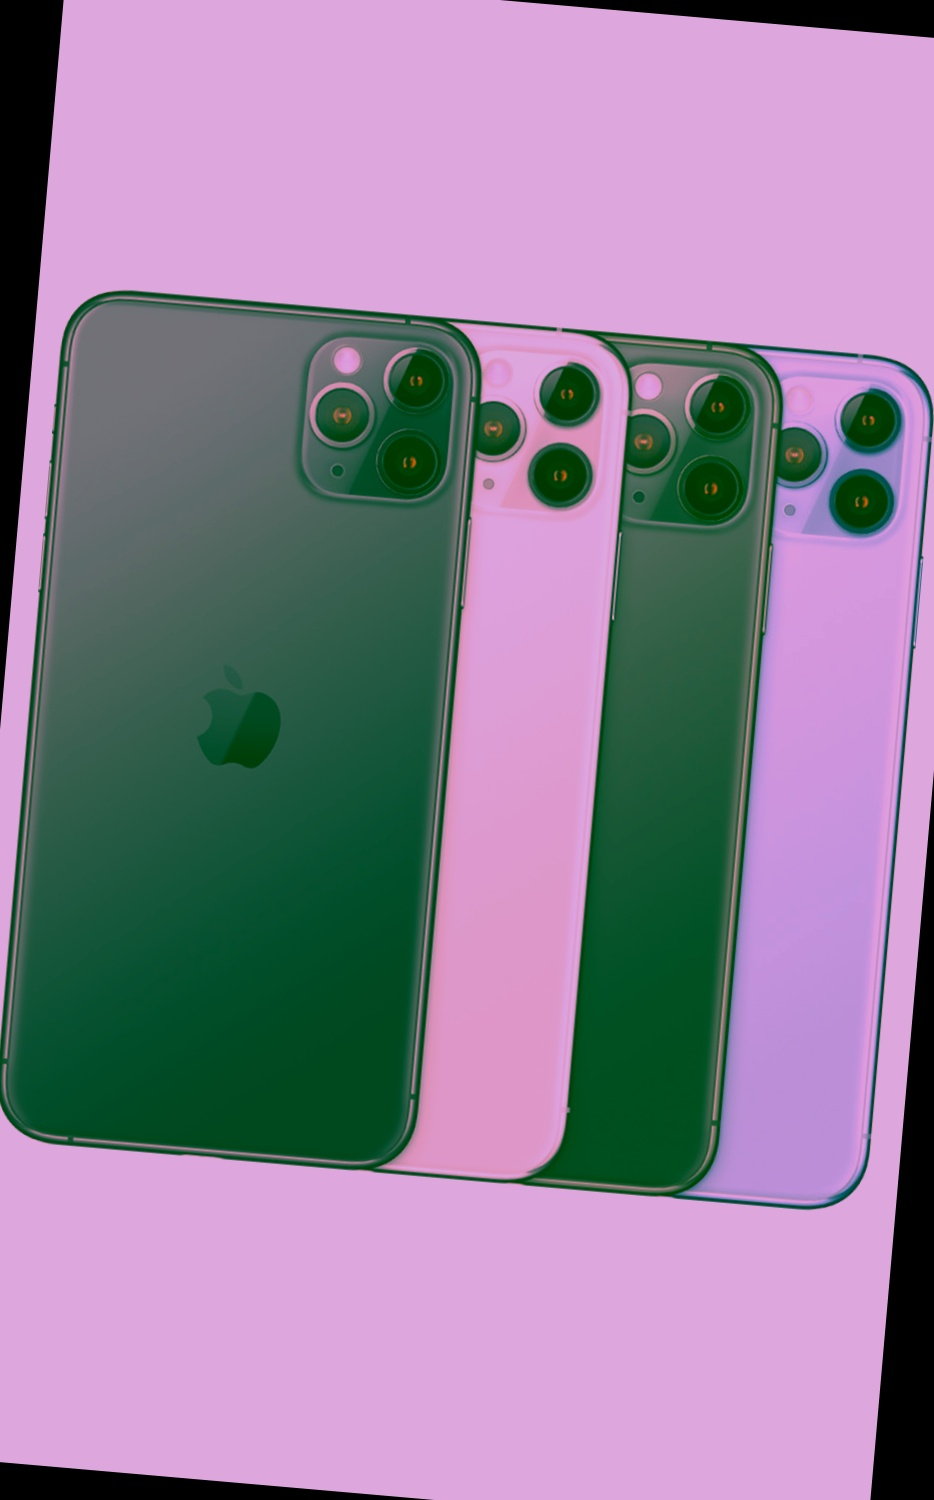iphone: (482, 314, 921, 1170)
